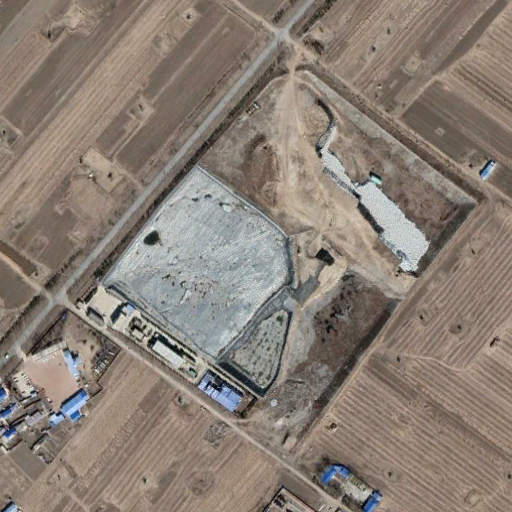lf: (101, 166, 292, 352)
